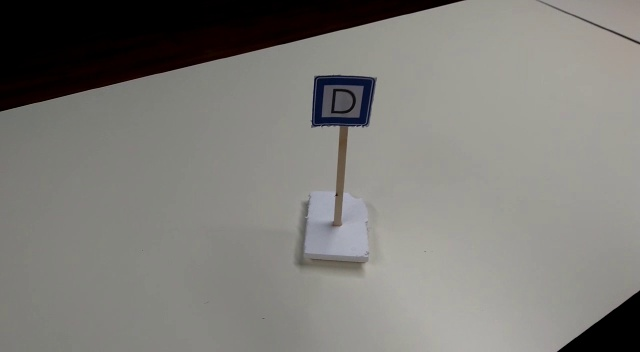durak: (311, 76, 376, 126)
